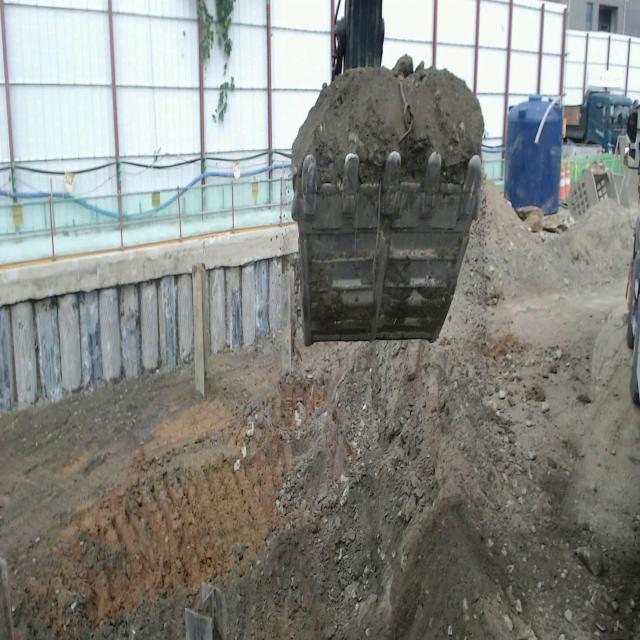cement: (0, 223, 298, 305)
red-sand: (0, 180, 640, 639), (293, 69, 482, 179)
